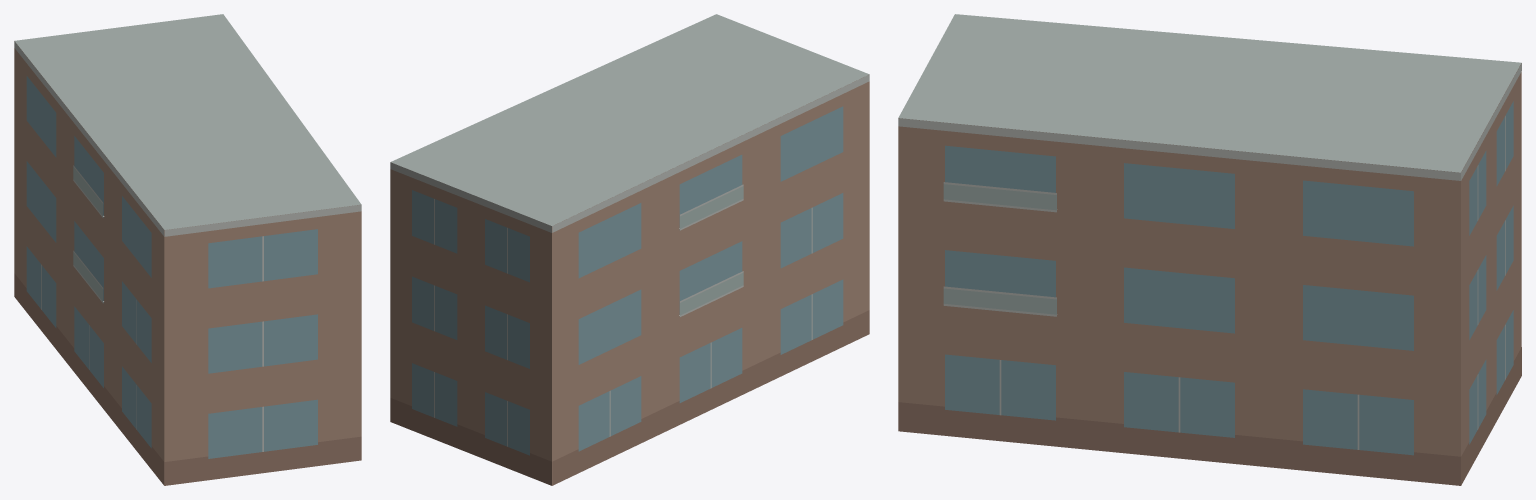
Rendered from survey-upis-32803886.glb.
3 renders of one model, left to right at view 1: azimuth 30°, elevation 25°; view 2: azimuth 150°, elevation 25°; view 3: azimuth 270°, elevation 25°, orthographic. The views are drawn at different scales.
Visible parts, largest first — view 1: survey-upis-32803886.tmp; view 2: survey-upis-32803886.tmp; view 3: survey-upis-32803886.tmp.
Part boxes in pixels (x1,y1,x2,y2): survey-upis-32803886.tmp: (14, 14, 361, 485); survey-upis-32803886.tmp: (390, 14, 869, 485); survey-upis-32803886.tmp: (898, 14, 1521, 485).
Size of the model in its own units: 9.95 by 9.15 by 16.52.
